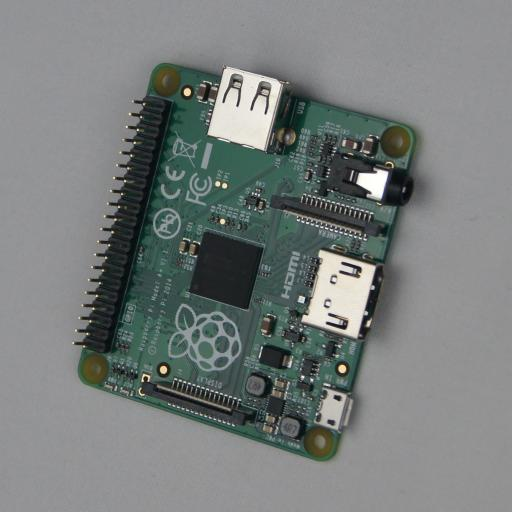Raspberry Pi A-: (74, 63, 427, 461)
